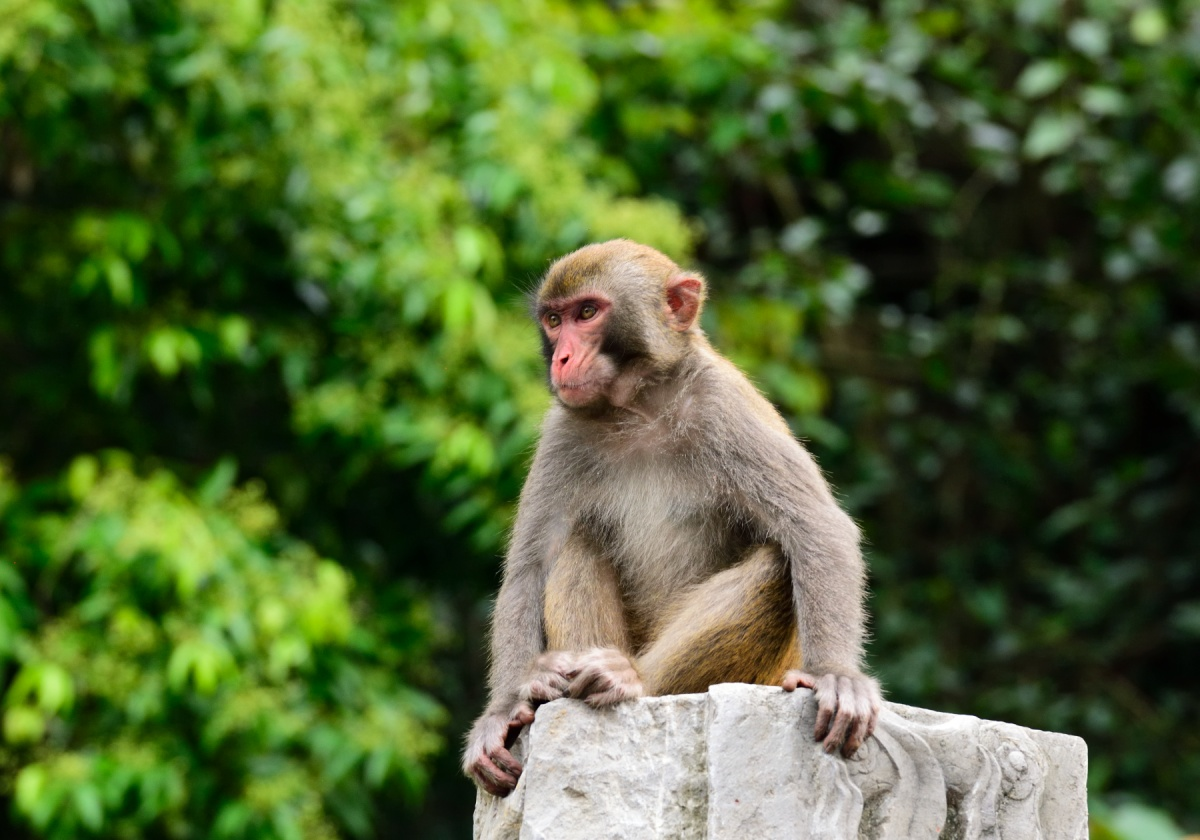monkey: (457, 227, 891, 788)
